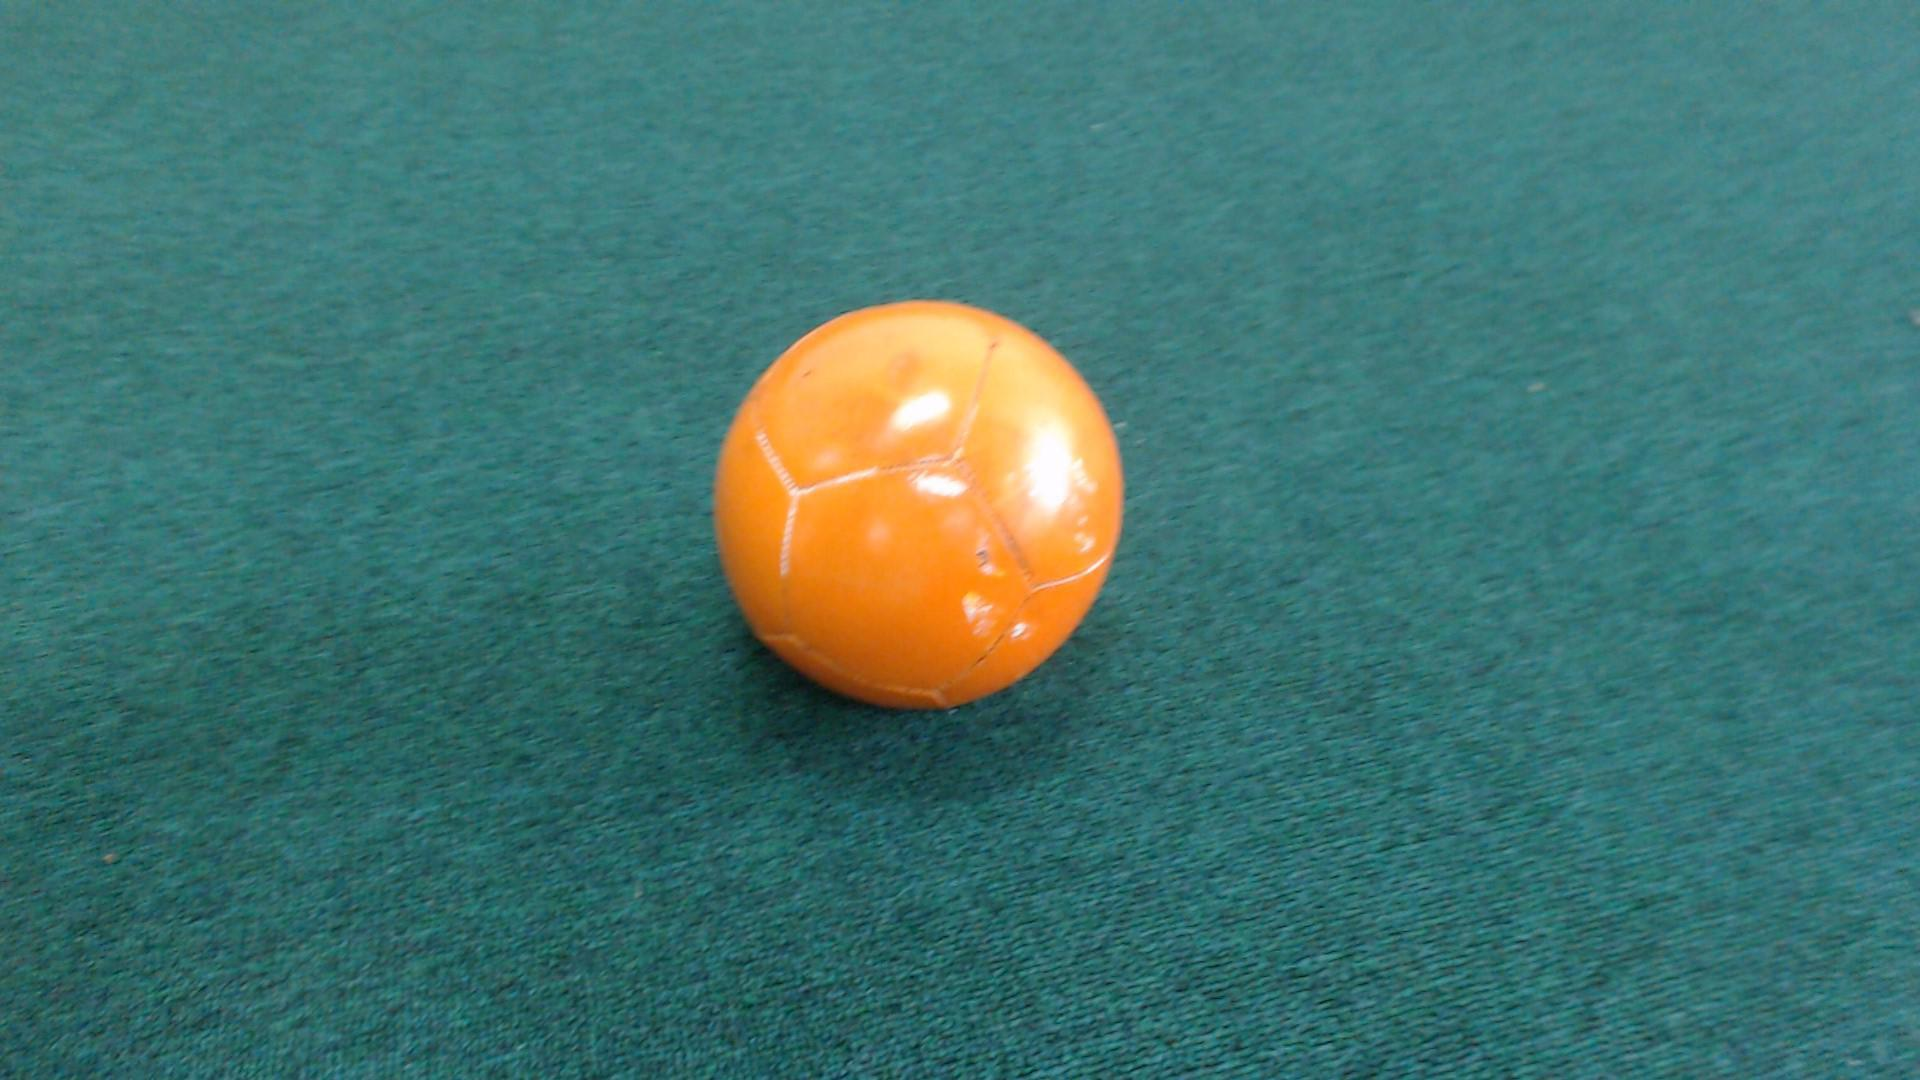bola: (696, 256, 1135, 757)
